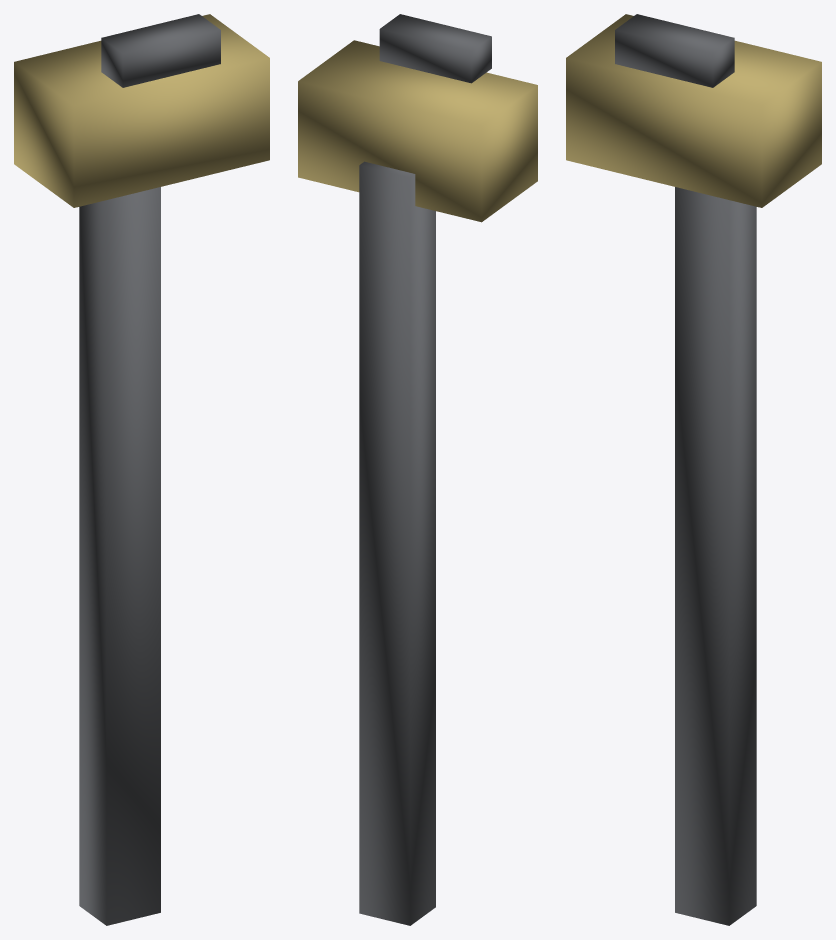
File: dock_light_03.glb
3 renders of one model, left to right at view 1: azimuth 30°, elevation 25°; view 2: azimuth 150°, elevation 25°; view 3: azimuth 330°, elevation 25°, orthographic. The views are drawn at different scales.
Visible parts, largest first — view 1: world; view 2: world; view 3: world.
Part boxes in pixels (<box>): world: <box>14,14,269,925</box>; world: <box>298,14,537,925</box>; world: <box>566,14,821,925</box>.
Size of the model in its own units: 0.3744 by 1.65 by 0.216.
